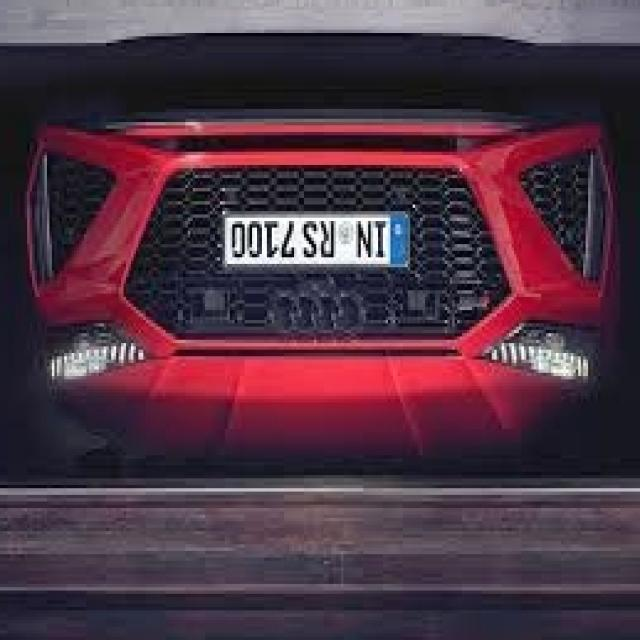red: (27, 84, 613, 476)
